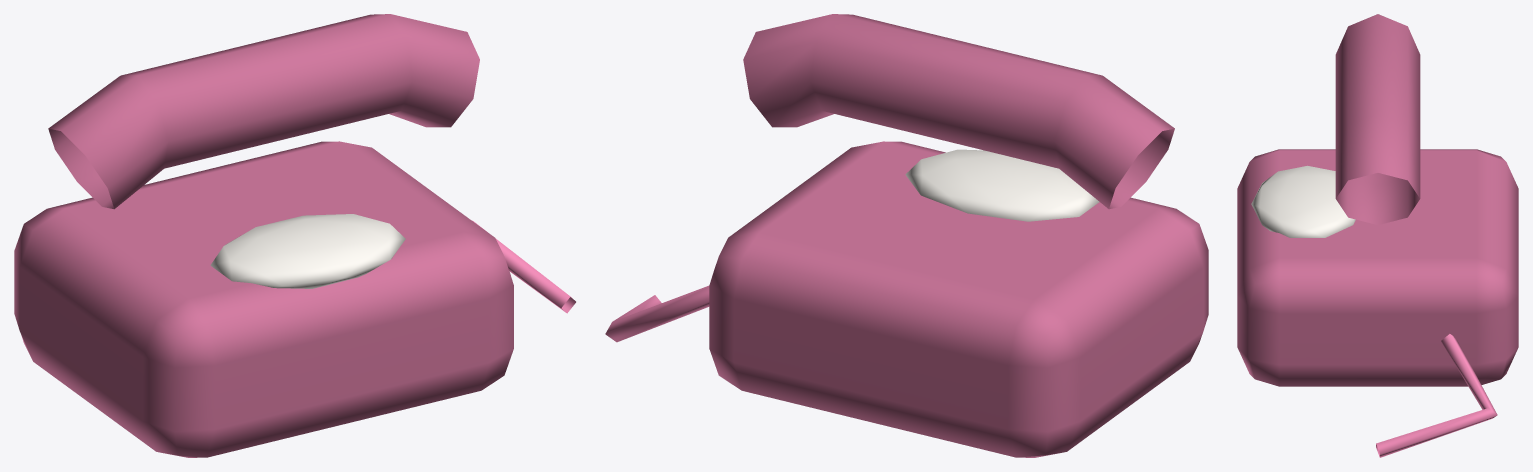
Rendered from furn_gossip_phone.glb.
The picture shows the model from 3 angles, left to right: view 1: azimuth 30°, elevation 25°; view 2: azimuth 150°, elevation 25°; view 3: azimuth 270°, elevation 25°; orthographic projection. The views are drawn at different scales.
Visible parts, largest first — view 1: furn_gossip_phone_gloss, furn_gossip_phone_main; view 2: furn_gossip_phone_gloss, furn_gossip_phone_main; view 3: furn_gossip_phone_gloss, furn_gossip_phone_main.
Part boxes in pixels (x1,y1,x2,y2): furn_gossip_phone_gloss: (14,14,513,457); furn_gossip_phone_main: (210,214,575,313); furn_gossip_phone_gloss: (709,14,1208,457); furn_gossip_phone_main: (605,149,1099,342); furn_gossip_phone_gloss: (1237,14,1518,386); furn_gossip_phone_main: (1251,165,1497,457).
Bounding box in the file's own units: 0.3392 × 0.2157 × 0.2.
